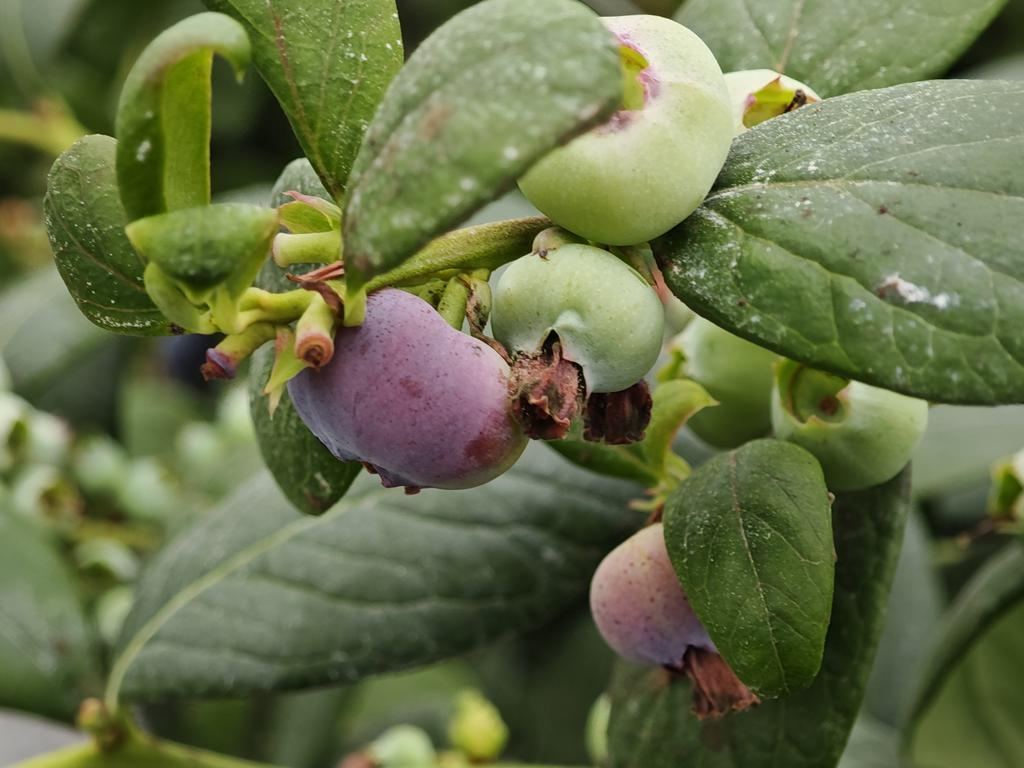Semi-RipeBlueBerry: (289, 287, 534, 494)
